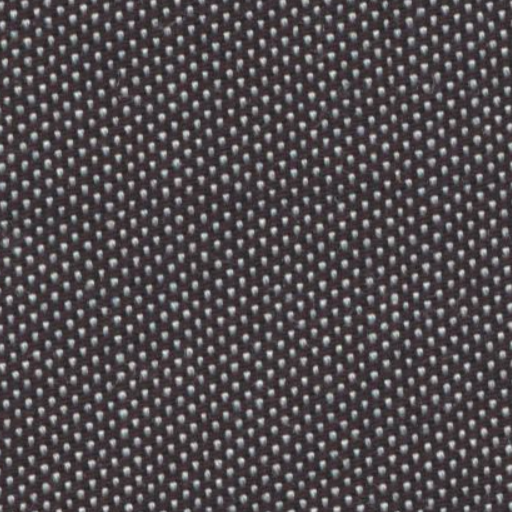TuoSha: (21, 167, 496, 222)
